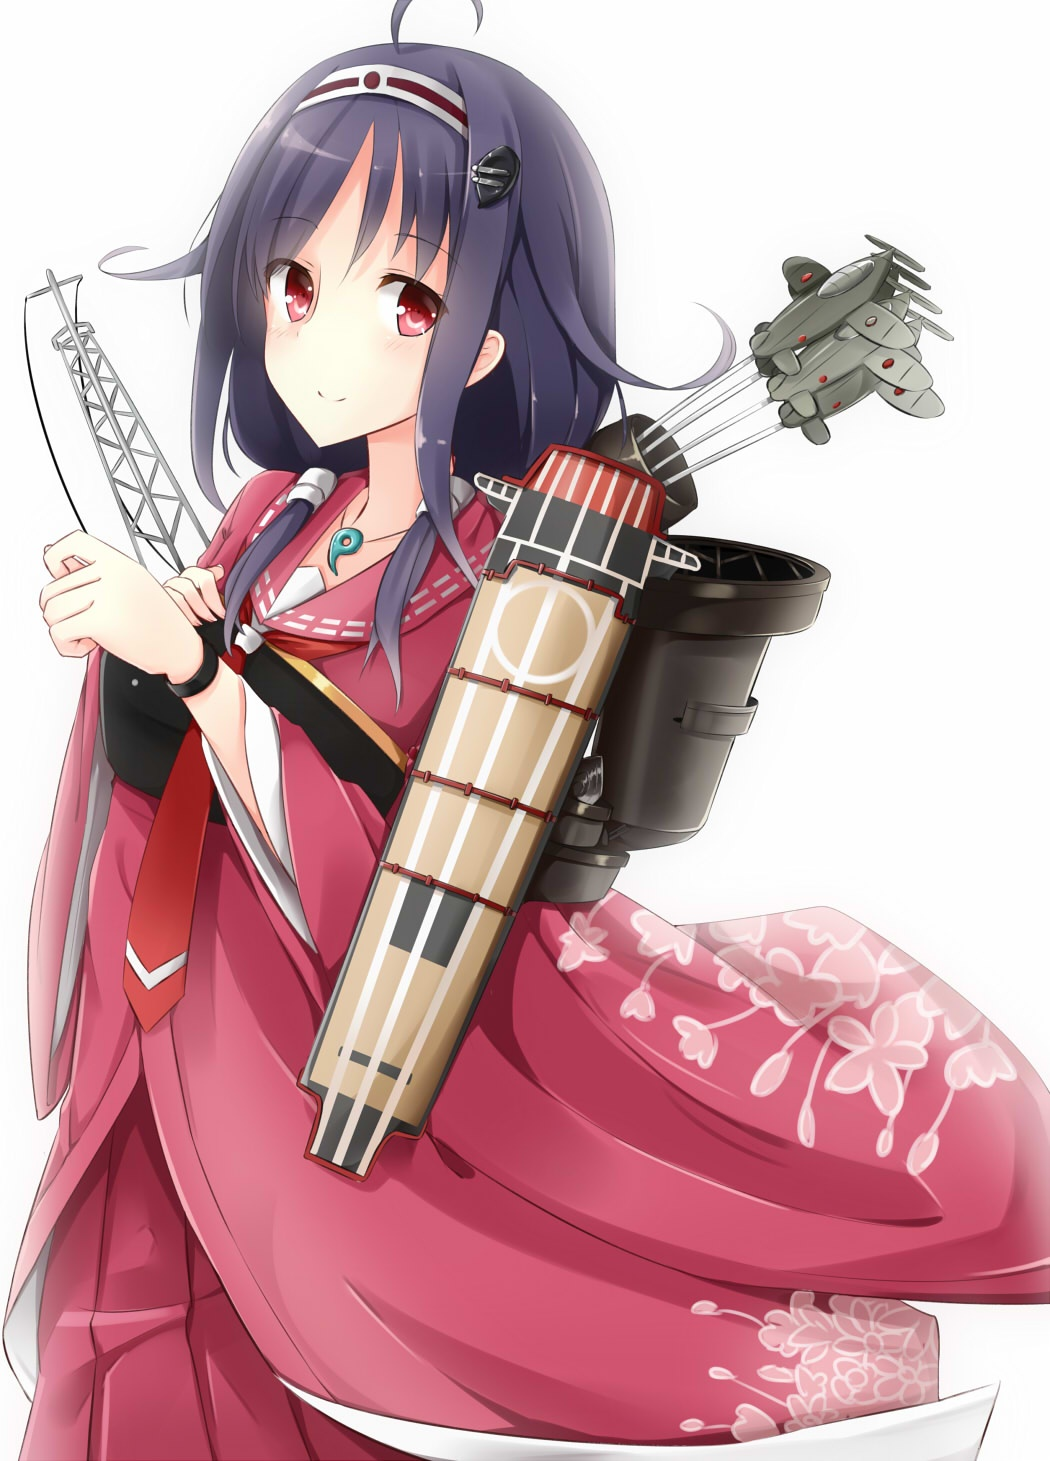纸片人正脸: (174, 15, 612, 459)
